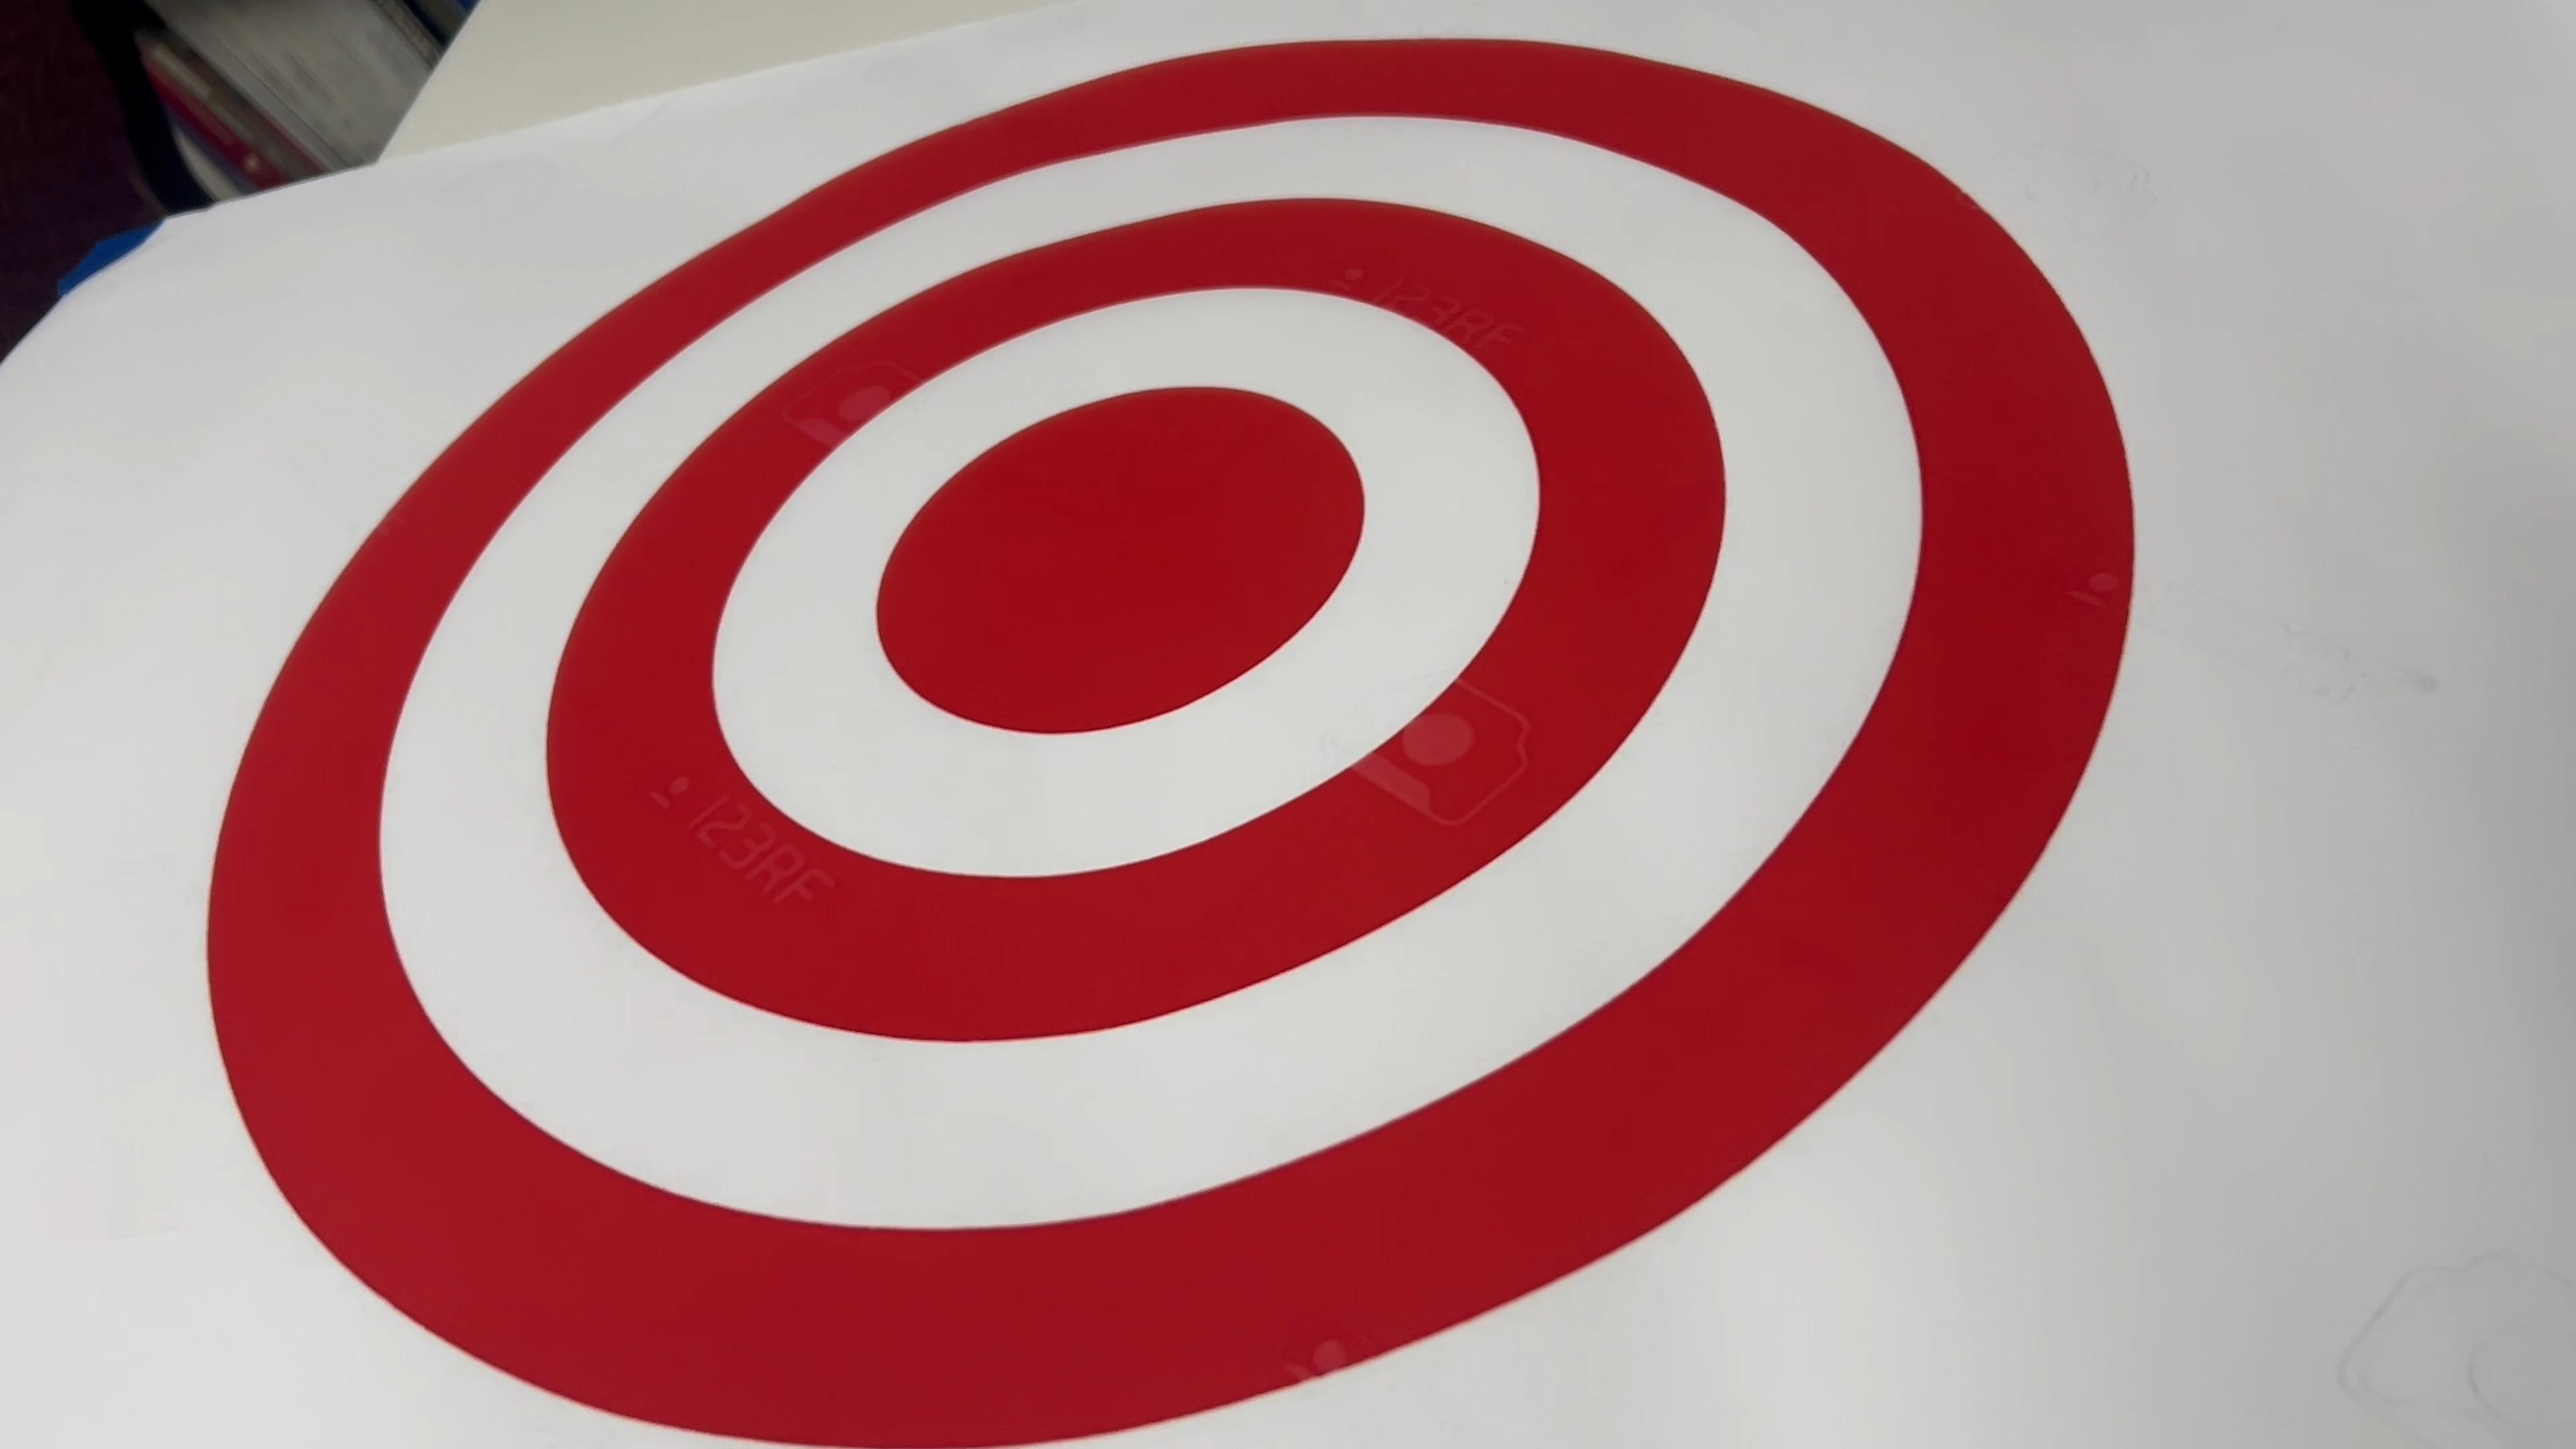target_red: (108, 5, 2134, 1449)
